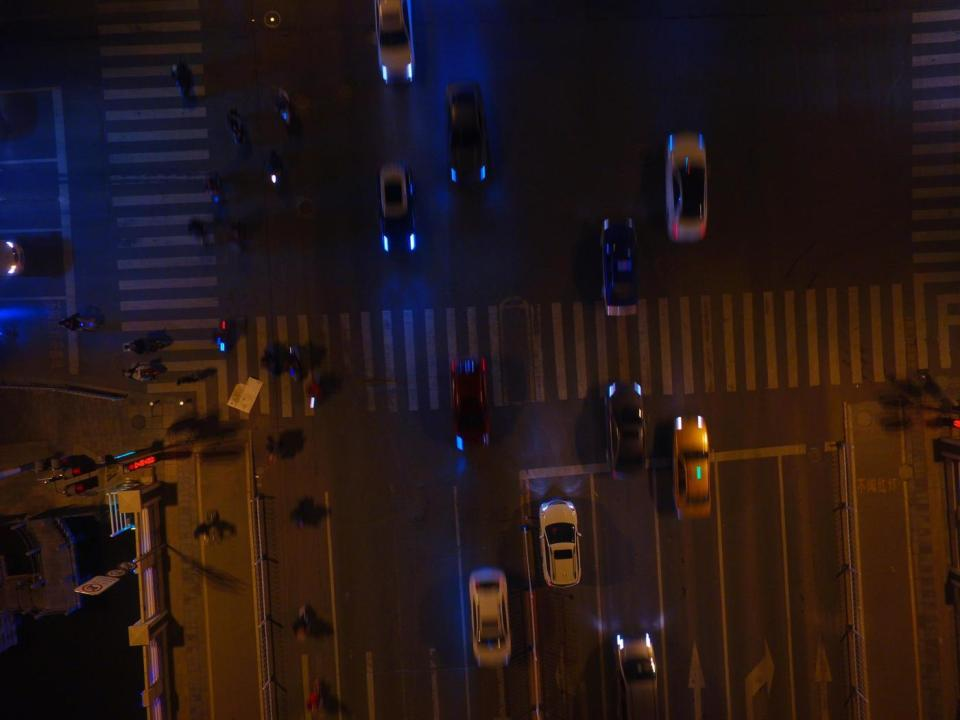car: (610, 609, 659, 719), (666, 130, 710, 244), (444, 77, 490, 186), (604, 379, 650, 486), (467, 565, 513, 671), (448, 356, 492, 457), (672, 412, 712, 521), (374, 157, 417, 258), (537, 496, 581, 590), (600, 217, 638, 316), (374, 1, 414, 87)
